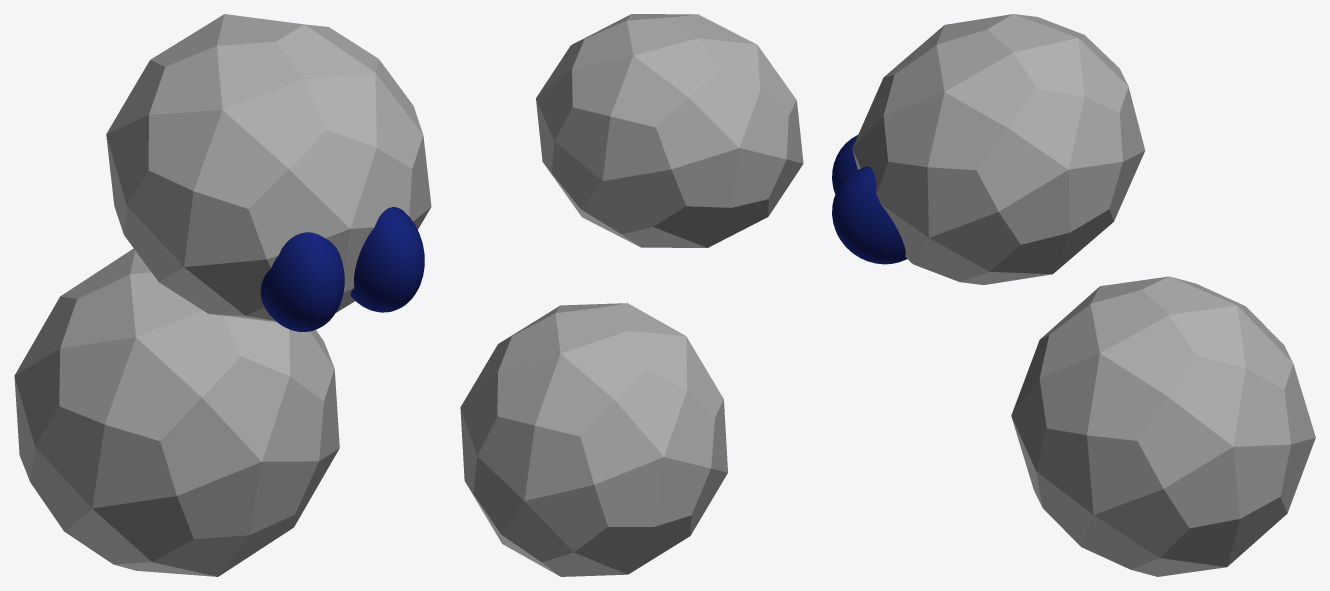
The model's file is movingforward.fbx.
3 renders of one model, left to right at view 1: azimuth 30°, elevation 25°; view 2: azimuth 150°, elevation 25°; view 3: azimuth 270°, elevation 25°, orthographic. The views are drawn at different scales.
Visible parts, largest first — view 1: pSolid5; view 2: pSolid5; view 3: pSolid5.
Part boxes in pixels (left/top/right/bottom): pSolid5: left=14, top=14, right=431, bottom=576; pSolid5: left=460, top=14, right=803, bottom=576; pSolid5: left=832, top=14, right=1315, bottom=576.
Bounding box in the file's own units: 12.52 × 25.02 × 20.54.
